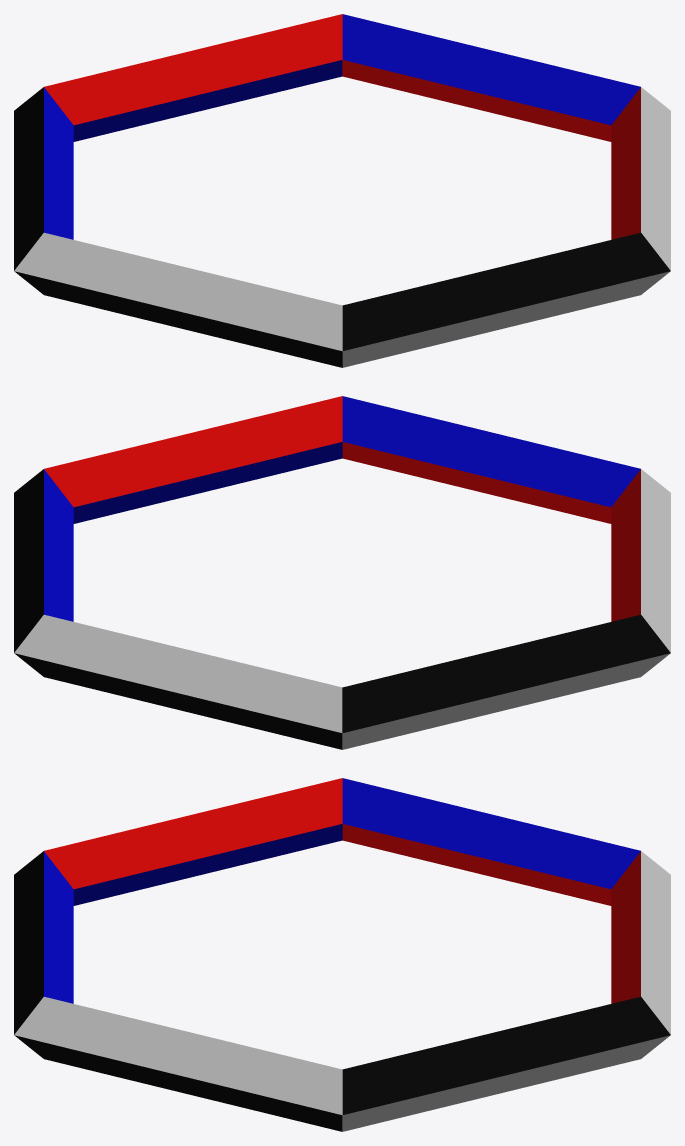
The model's file is explosion_9.obj.
3 renders of one model, top to bottom at view 1: azimuth 30°, elevation 25°; view 2: azimuth 150°, elevation 25°; view 3: azimuth 270°, elevation 25°, orthographic.
Parts seen in each view (by area): view 1: Sphere; view 2: Sphere; view 3: Sphere.
Boxes of the visible parts, x1,y1,x2,y2 form: Sphere: (14, 14, 670, 367); Sphere: (14, 396, 670, 749); Sphere: (14, 778, 670, 1131).
Size of the model in its own units: 44 by 4 by 38.11.
